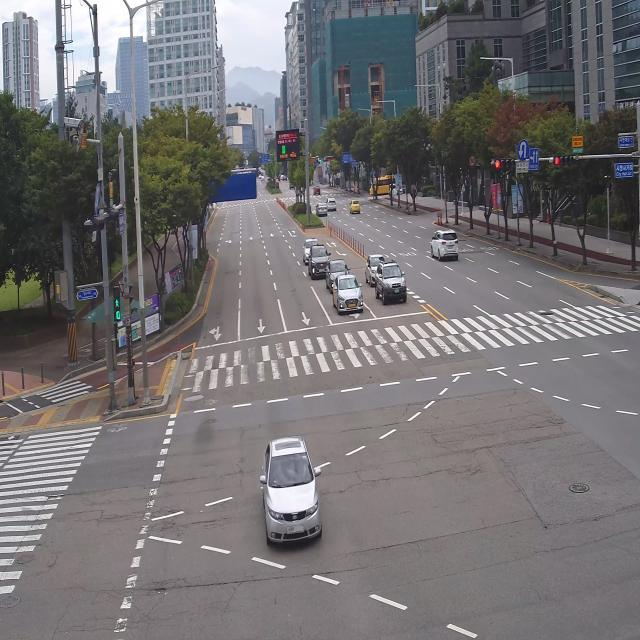Bus: (367, 171, 398, 196)
Car: (256, 422, 327, 557), (369, 253, 407, 308), (329, 267, 365, 320), (425, 223, 466, 268), (309, 241, 330, 279), (326, 258, 351, 289), (365, 249, 385, 282), (348, 197, 363, 220), (314, 198, 329, 220), (327, 194, 338, 213), (312, 184, 322, 199)
